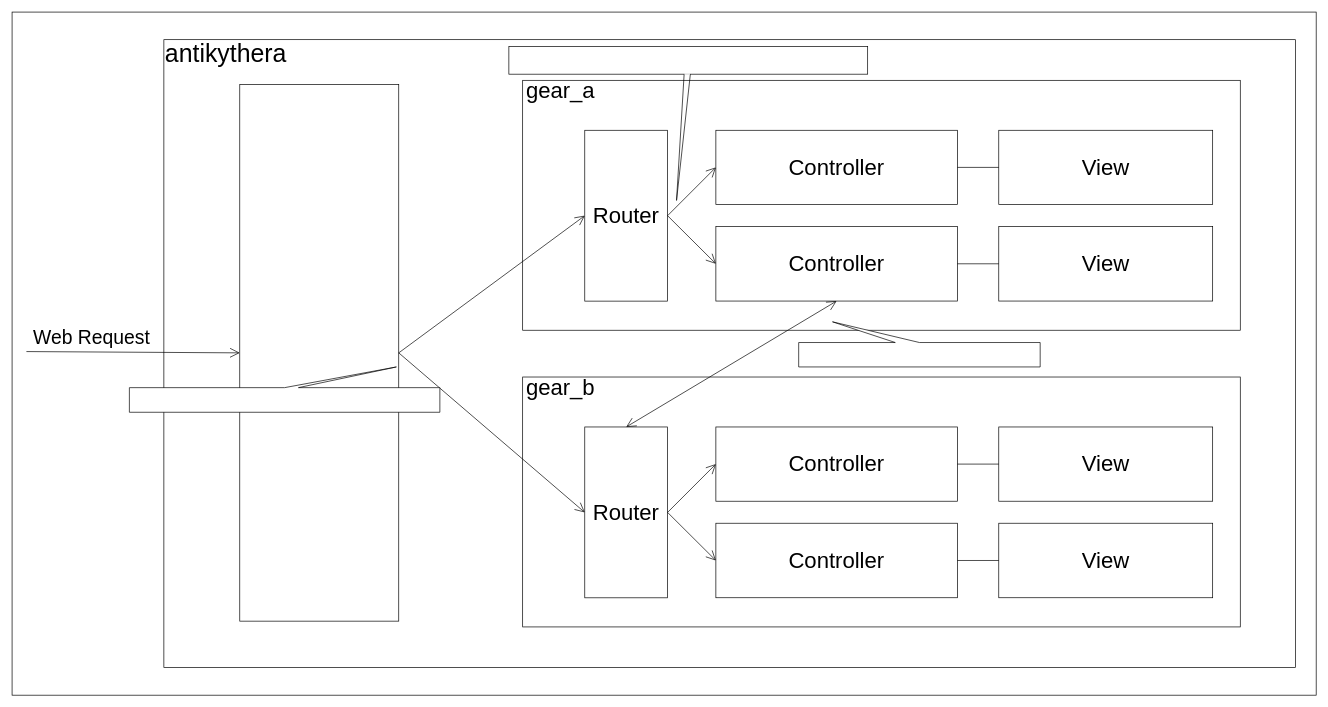
This 1328x707 diagram has some shape labels left out. Each missing label, with the centre of its shape:
"Domain-based routing to a specific gear" goes at (x=284, y=389).
"Gear-to-gear request/response" goes at (x=919, y=344).
"Path-based routing to a specific controller action" goes at (x=688, y=60).
